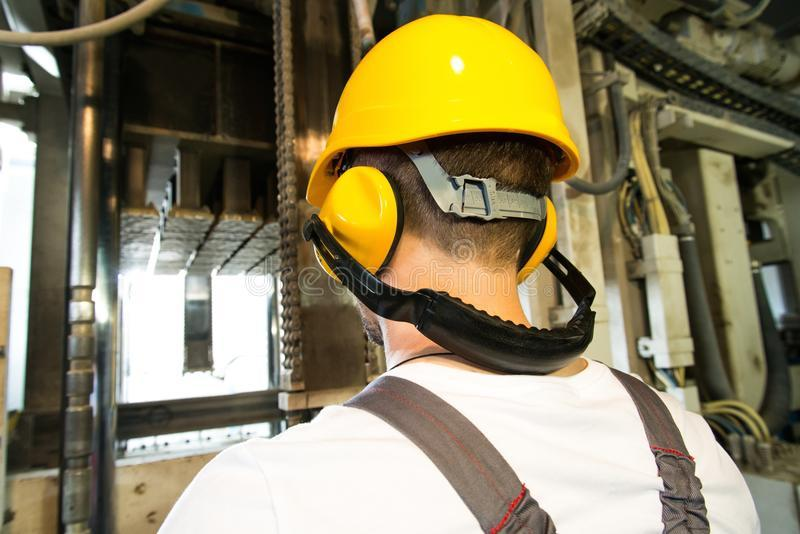helmet: (300, 14, 580, 185)
